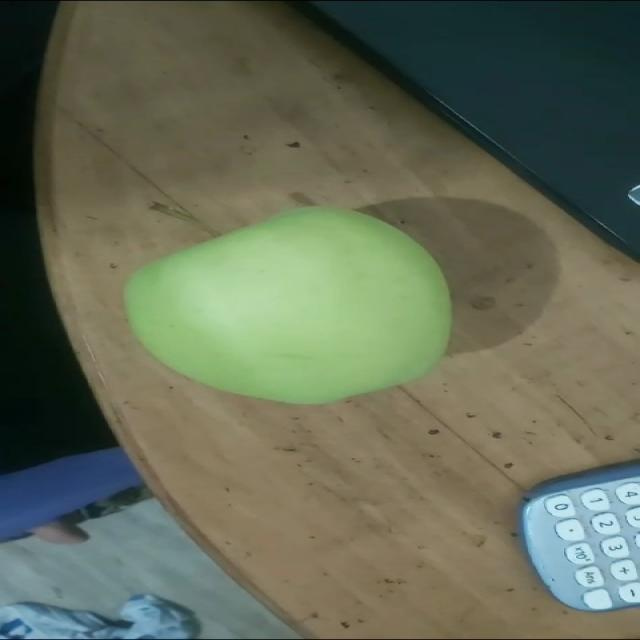50-_ripeness: (119, 207, 452, 402)
